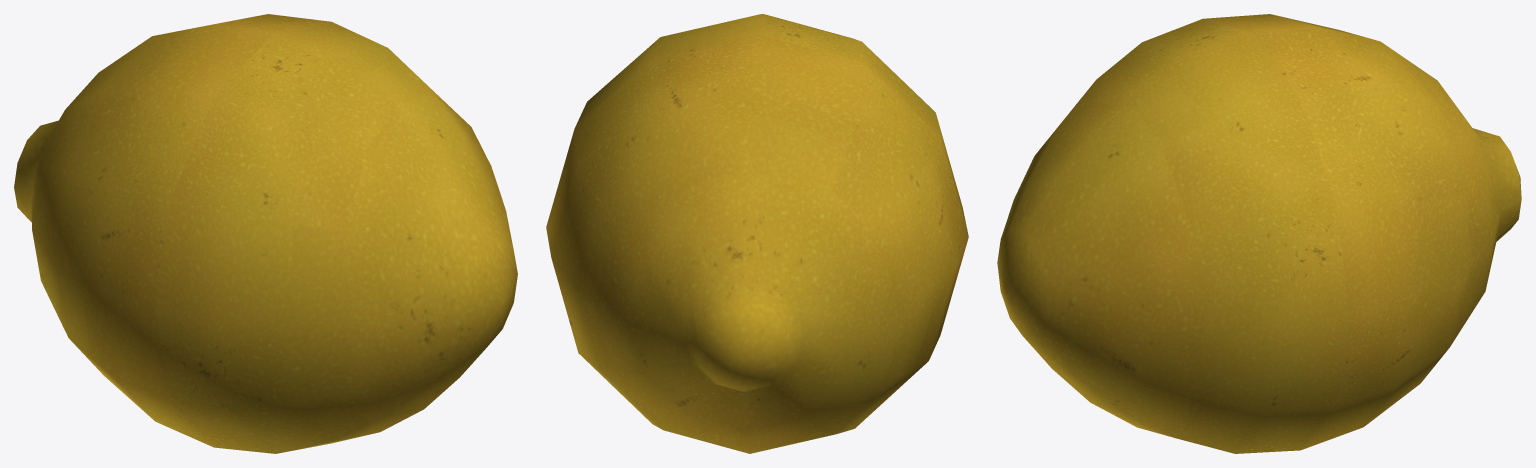
The model's file is Lemon.fbx.
3 renders of one model, left to right at view 1: azimuth 30°, elevation 25°; view 2: azimuth 150°, elevation 25°; view 3: azimuth 270°, elevation 25°, orthographic. The views are drawn at different scales.
Visible parts, largest first — view 1: Lemon; view 2: Lemon; view 3: Lemon.
Boxes of the visible parts, x1=… form: Lemon: x1=14, y1=14, x2=517, y2=453; Lemon: x1=546, y1=14, x2=968, y2=453; Lemon: x1=997, y1=14, x2=1521, y2=453.
Bounding box in the file's own units: 9.29 × 9.39 × 11.03.
Materials: 1 (1 with a texture image).
